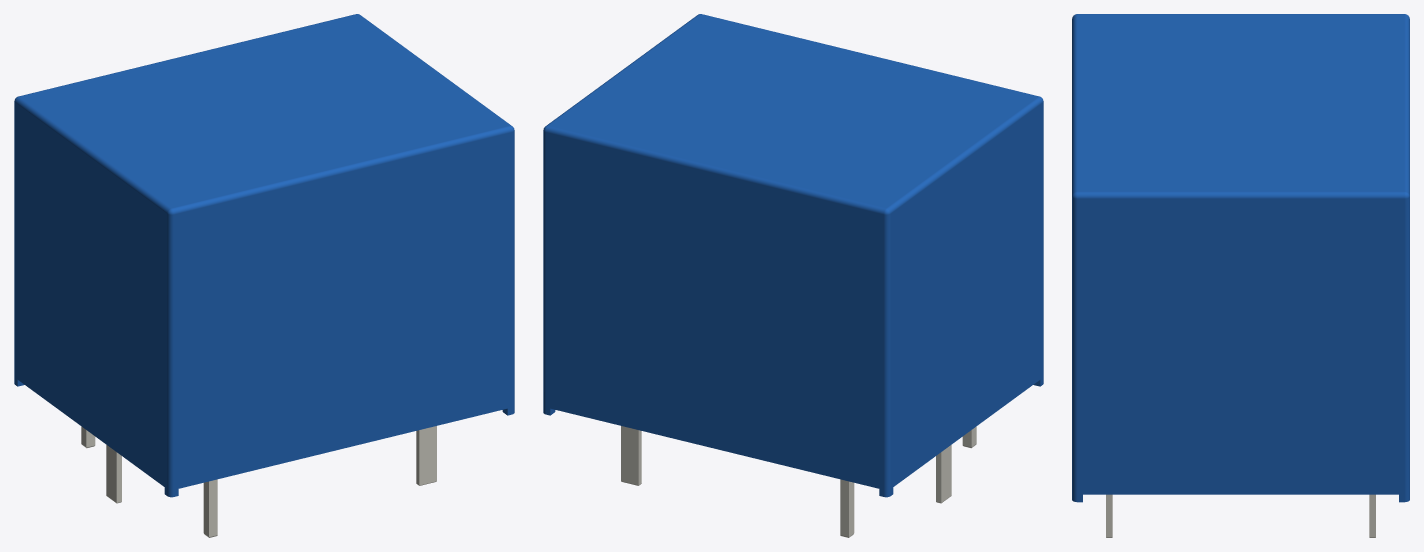
File: Relay_SPDT_SANYOU_SRD_Series_Form_C.glb
The picture shows the model from 3 angles, left to right: view 1: azimuth 30°, elevation 25°; view 2: azimuth 150°, elevation 25°; view 3: azimuth 270°, elevation 25°; orthographic projection. The views are drawn at different scales.
Visible parts, largest first — view 1: =>[0:1:1:3]; view 2: =>[0:1:1:3]; view 3: =>[0:1:1:3].
Part boxes in pixels (x1=…): =>[0:1:1:3]: x1=14, y1=14, x2=514, y2=537; =>[0:1:1:3]: x1=543, y1=14, x2=1043, y2=537; =>[0:1:1:3]: x1=1072, y1=14, x2=1409, y2=537.
Bounding box in the file's own units: 0.0196 × 0.019 × 0.0154.
